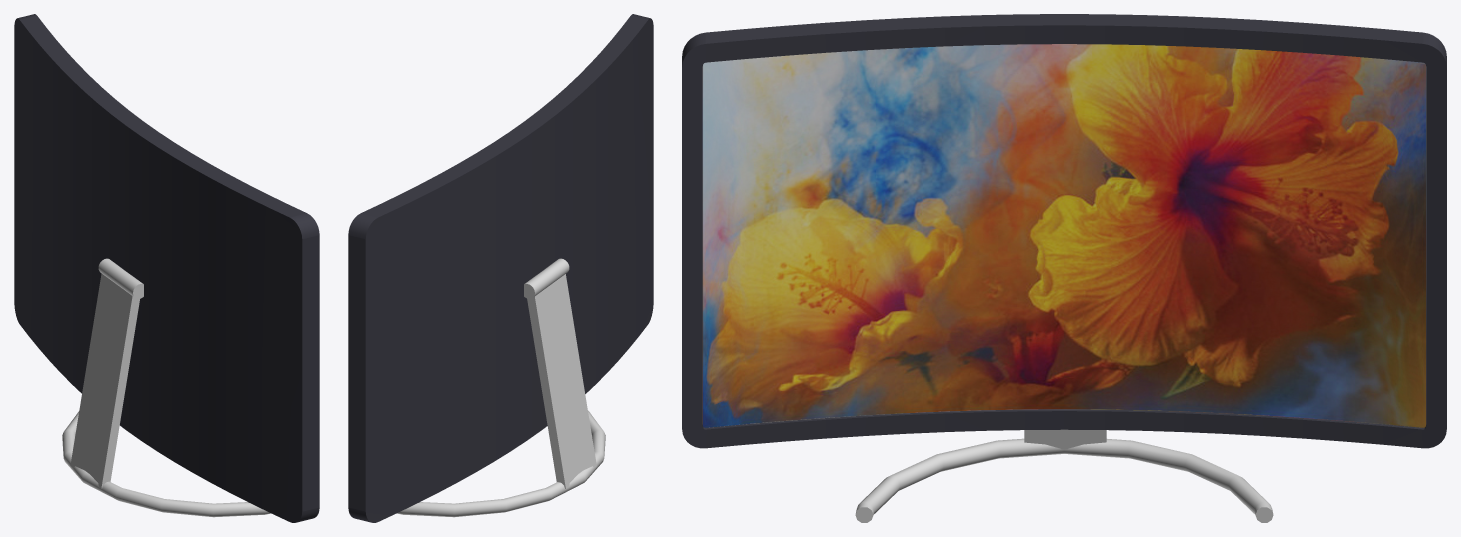
Rendered from 9FE26B38-4B89-4F5C-9AFC-E8AA08ED1813.dae.
3 views of the same model, side by side, from view 1: azimuth 30°, elevation 25°; view 2: azimuth 150°, elevation 25°; view 3: azimuth 270°, elevation 25° (orthographic). The views are drawn at different scales.
Visible parts, largest first — view 1: TV_40_curved; view 2: TV_40_curved; view 3: TV_40_curved.
Part boxes in pixels (box(x1,y1,x2,y2)): TV_40_curved: box(14, 14, 319, 522); TV_40_curved: box(348, 14, 653, 522); TV_40_curved: box(682, 14, 1446, 522).
Bounding box in the file's own units: 0.2097 × 0.6113 × 0.9145.
Materials: 4 (2 with a texture image).
